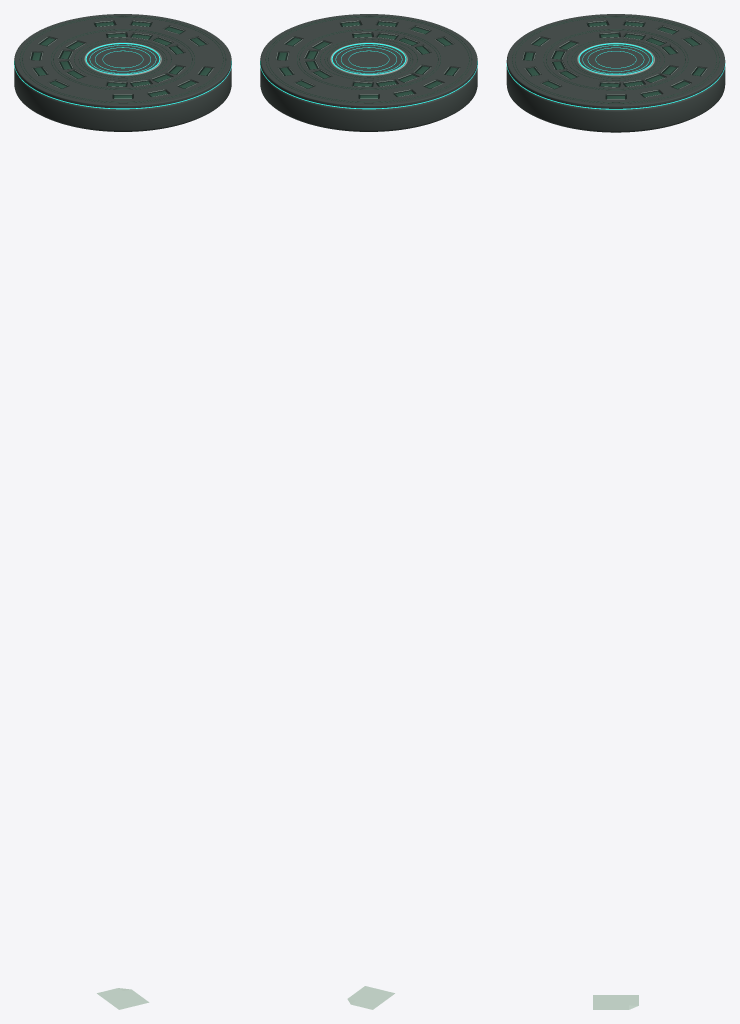
File: opfs-hero.glb
3 renders of one model, left to right at view 1: azimuth 30°, elevation 25°; view 2: azimuth 150°, elevation 25°; view 3: azimuth 270°, elevation 25°, orthographic.
Parts seen in each view (by area): view 1: storage_body_Graphite, storage_trim_Engraved_lines, storage_slots_Engraved_lines, storage_slots_Recess, storage_emissive_Emerald, file_card_template, storage_slots_Satin_silver; view 2: storage_body_Graphite, storage_trim_Engraved_lines, storage_slots_Engraved_lines, storage_slots_Recess, storage_emissive_Emerald, file_card_template, storage_slots_Satin_silver; view 3: storage_body_Graphite, storage_trim_Engraved_lines, storage_slots_Engraved_lines, storage_slots_Recess, storage_emissive_Emerald, file_card_template, storage_slots_Satin_silver.
Part boxes in pixels (x1,y1,x2,y2): storage_body_Graphite: (14,14,231,131); storage_trim_Engraved_lines: (19,15,226,103); storage_slots_Engraved_lines: (32,22,211,98); storage_slots_Recess: (30,21,213,98); storage_emissive_Emerald: (14,43,231,109); file_card_template: (97,988,149,1009); storage_slots_Satin_silver: (30,20,213,98); storage_body_Graphite: (260,14,477,131); storage_trim_Engraved_lines: (265,15,472,103); storage_slots_Engraved_lines: (278,22,457,98); storage_slots_Recess: (276,21,459,98); storage_emissive_Emerald: (260,43,477,109); file_card_template: (347,986,394,1009); storage_slots_Satin_silver: (276,20,459,98); storage_body_Graphite: (506,14,725,132); storage_trim_Engraved_lines: (512,15,719,103); storage_slots_Engraved_lines: (525,22,704,98); storage_slots_Recess: (523,21,706,99); storage_emissive_Emerald: (506,43,725,109); file_card_template: (593,995,638,1009); storage_slots_Satin_silver: (522,20,707,99).
Bounding box in the file's own units: 4.21 × 20.02 × 4.21.
